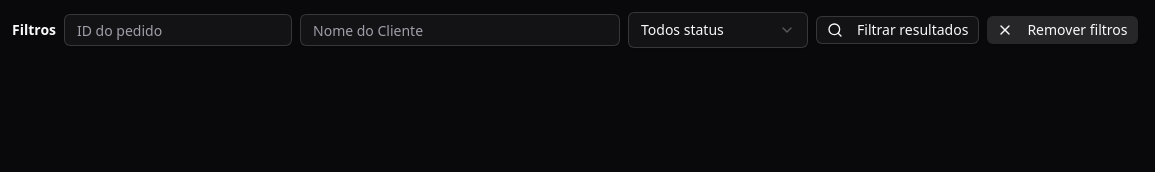
Test: Order Table Filters › should put filters in url after submit
The image size is (1155, 172).
In the field with placeholder "Nome do Cliente": (460, 30) [300,14,620,46], type "Jao"
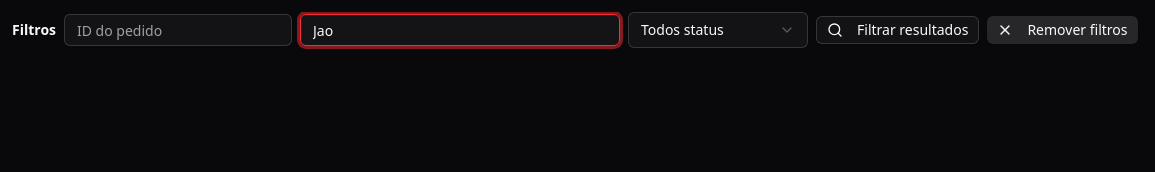
In the field with placeholder "ID do pedido": (178, 30) [64,14,292,46], type "12"
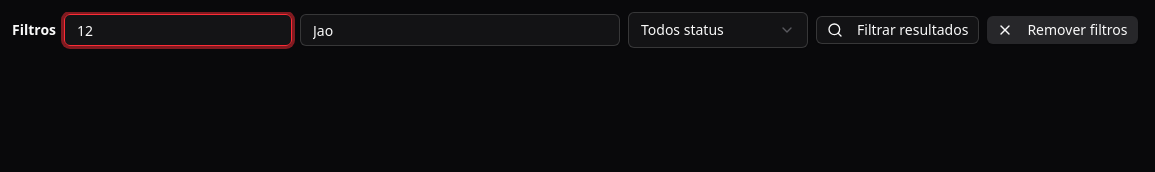
Click the button "Filtrar resultados": (898, 30) [816,16,979,44]
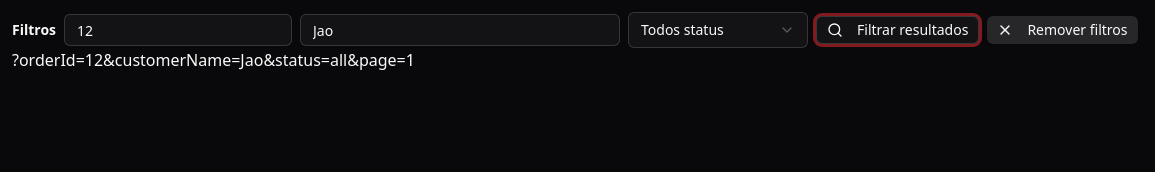
Result: the text with test id "location-display" reads "?orderId=12&customerName=Jao&status=all&page=1" at [12,49,415,71]
